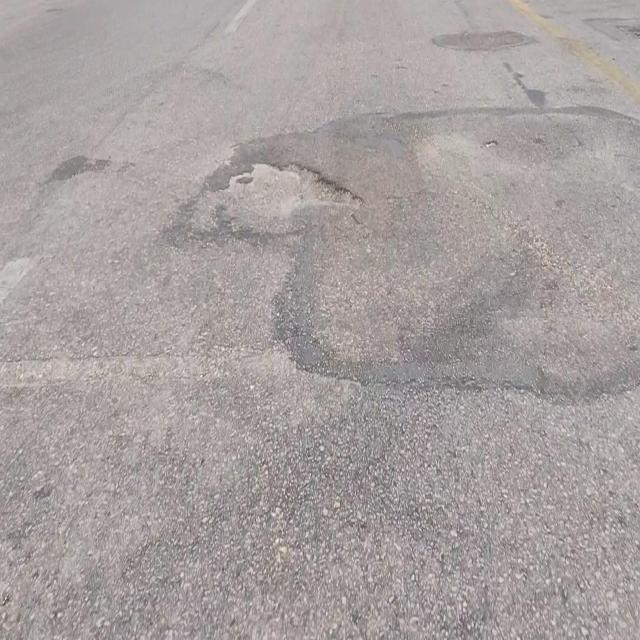Potholes: (211, 159, 359, 227)
